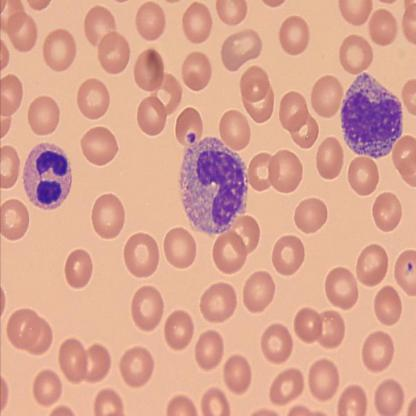Band Neutrophil: (178, 134, 251, 238), (339, 69, 406, 161), (19, 140, 72, 211)
